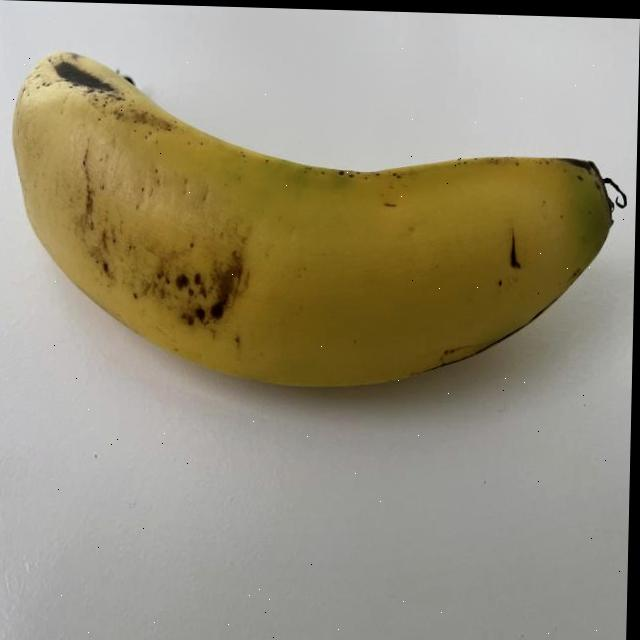banana: (5, 45, 637, 407)
